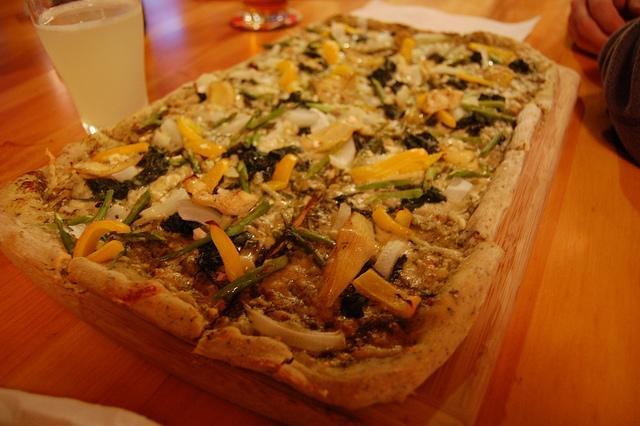bell pepper: (347, 148, 446, 187), (212, 254, 288, 300), (352, 268, 421, 318), (182, 174, 260, 216), (204, 220, 244, 284), (72, 220, 131, 259), (224, 201, 274, 237), (308, 121, 361, 153), (70, 154, 144, 176), (264, 154, 307, 191), (202, 158, 240, 194), (372, 206, 414, 238), (467, 41, 518, 66), (122, 188, 152, 226), (318, 62, 356, 91), (86, 240, 124, 264), (186, 139, 228, 160), (247, 106, 284, 128), (91, 189, 114, 224), (371, 188, 424, 203), (208, 81, 235, 106), (278, 60, 300, 88), (300, 231, 336, 248), (424, 110, 456, 129), (356, 179, 414, 189), (456, 72, 494, 86), (321, 40, 340, 66), (399, 38, 416, 66), (442, 146, 462, 166), (393, 208, 412, 229), (372, 78, 386, 106), (448, 169, 489, 178), (478, 100, 507, 112), (448, 92, 464, 111)
onion: (316, 212, 375, 309), (242, 300, 346, 351), (352, 268, 422, 318), (349, 148, 430, 185), (72, 152, 140, 177), (139, 188, 191, 220), (373, 234, 409, 280), (460, 62, 514, 92), (176, 199, 223, 229), (328, 202, 352, 242), (354, 74, 382, 108), (329, 136, 357, 168), (338, 106, 386, 124), (256, 134, 301, 152), (282, 108, 318, 127), (444, 177, 472, 201), (195, 72, 223, 94), (331, 21, 348, 50), (427, 64, 468, 75), (151, 128, 171, 149), (251, 70, 275, 84), (336, 21, 358, 35), (475, 48, 489, 70), (408, 64, 421, 86), (268, 42, 282, 59), (357, 18, 368, 34), (340, 63, 358, 71)
